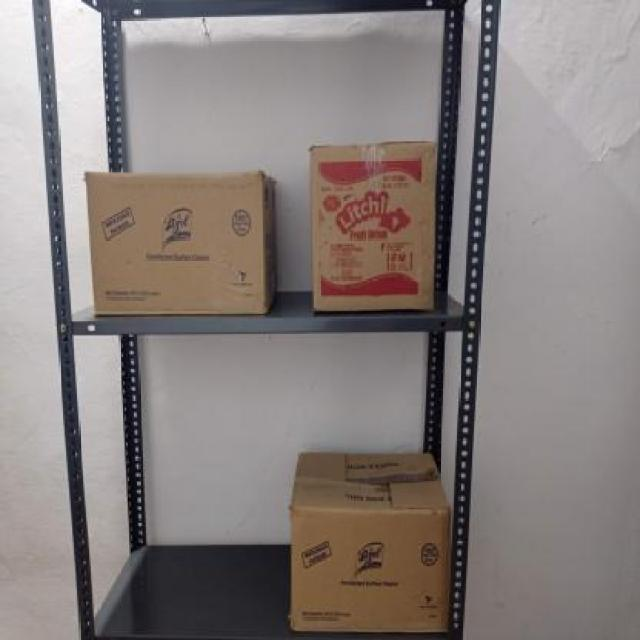box: (89, 171, 263, 315), (311, 141, 437, 317), (290, 509, 450, 628)
